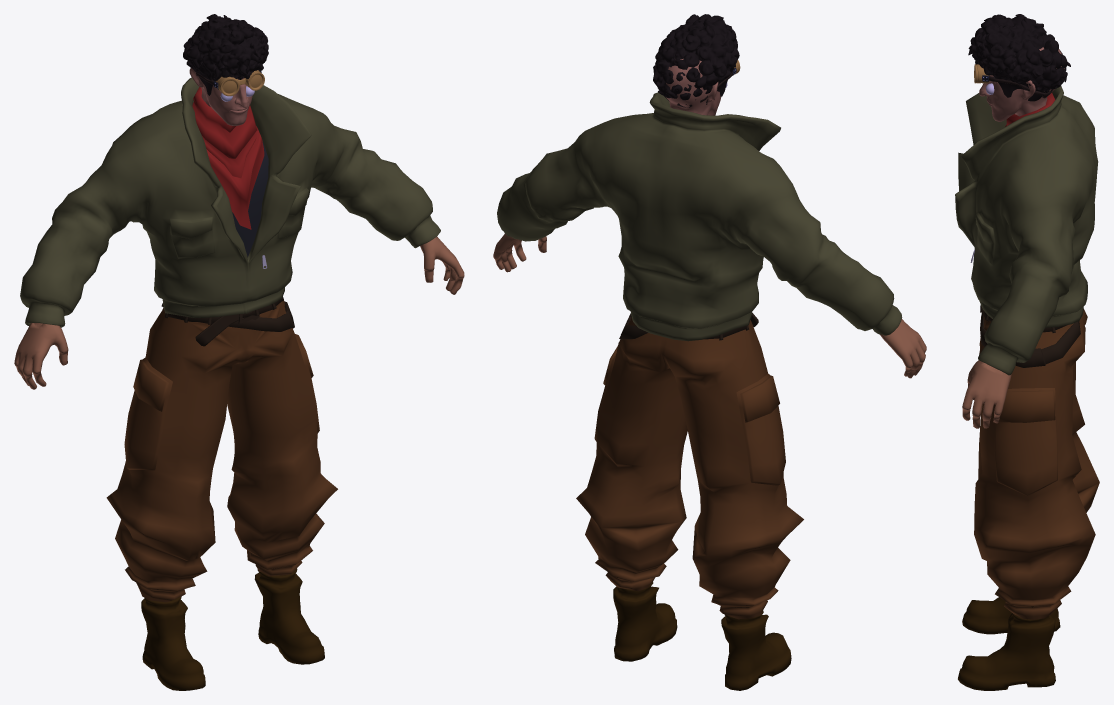
The model's file is char.glb.
3 views of the same model, side by side, from view 1: azimuth 30°, elevation 25°; view 2: azimuth 150°, elevation 25°; view 3: azimuth 270°, elevation 25° (orthographic).
Parts seen in each view (by area): view 1: BODY; view 2: BODY; view 3: BODY.
Boxes of the visible parts, box(x1,y1,x2,y2) form: BODY: box(14, 14, 464, 690); BODY: box(493, 14, 926, 690); BODY: box(955, 14, 1099, 690).
Size of the model in its own units: 0.7049 by 1 by 0.2067.
